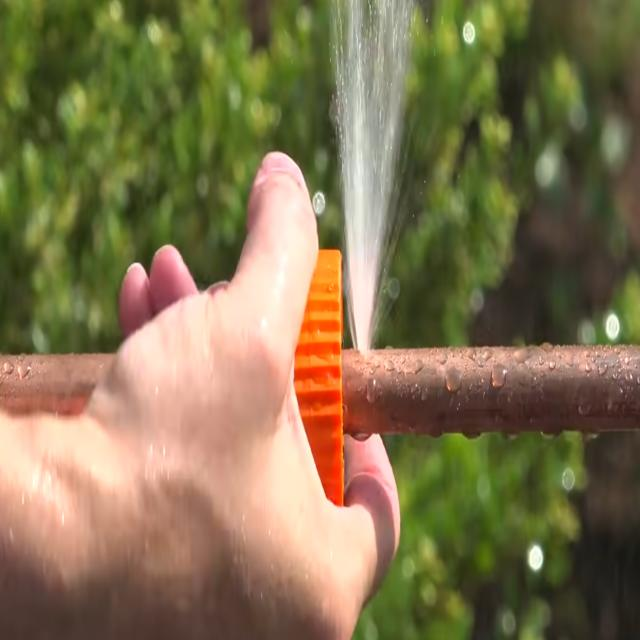leak: (325, 0, 422, 356)
